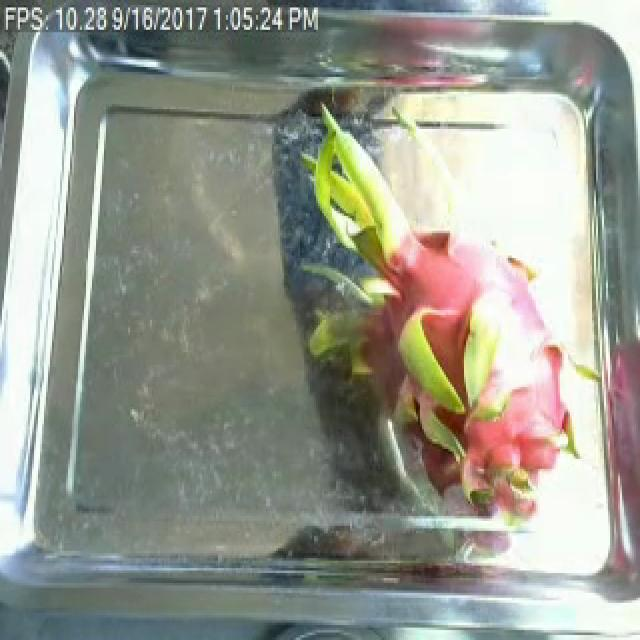fruit: (288, 124, 598, 538)
